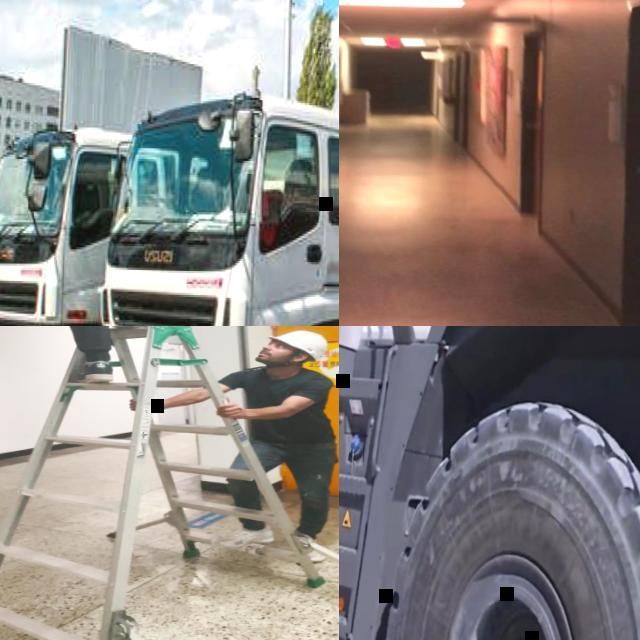Helmet: (268, 318, 333, 374)
Robbery: (147, 328, 337, 586), (64, 305, 207, 415)
